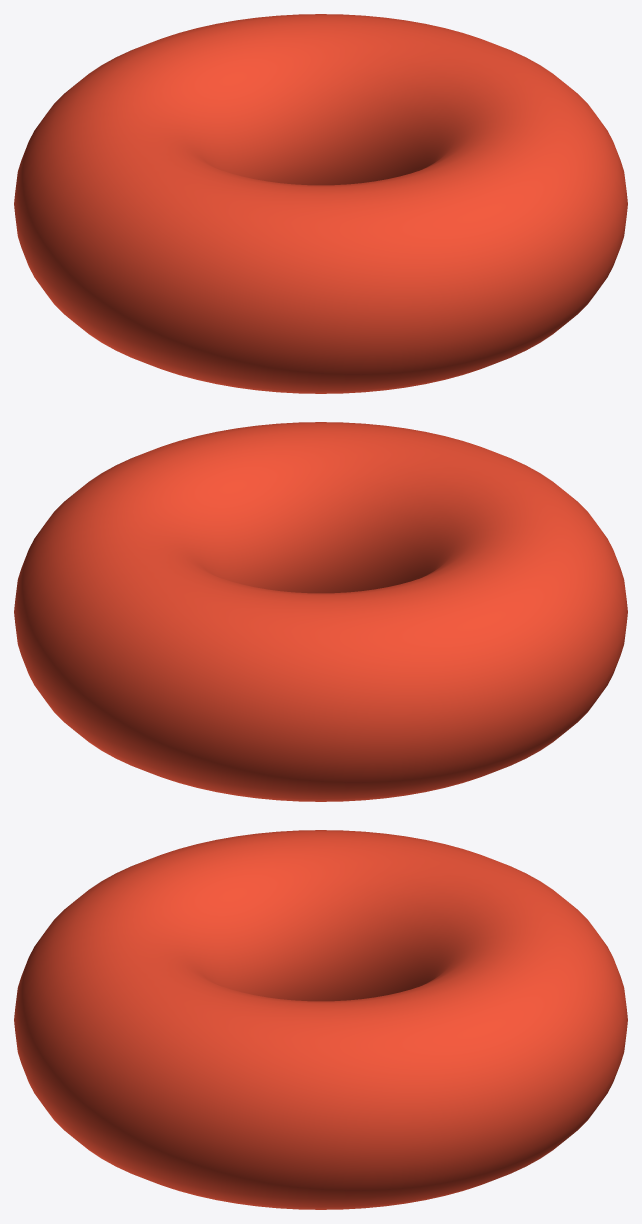
Rendered from fat-torus.glb.
3 views of the same model, one above another, from view 1: azimuth 30°, elevation 25°; view 2: azimuth 150°, elevation 25°; view 3: azimuth 270°, elevation 25° (orthographic).
Visible parts, largest first — view 1: FatTorus; view 2: FatTorus; view 3: FatTorus.
Boxes of the visible parts, x1,y1,x2,y2 form: FatTorus: (14, 14, 627, 393); FatTorus: (14, 422, 627, 801); FatTorus: (14, 830, 627, 1209).
Bounding box in the file's own units: 2.12 × 0.72 × 2.12.
